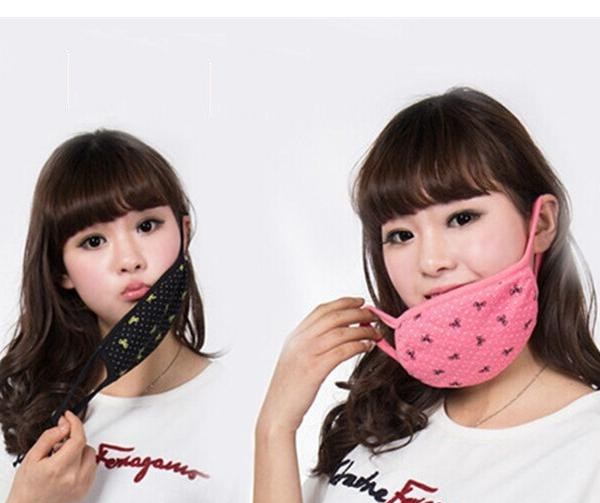face_mask: (379, 162, 537, 389), (66, 183, 183, 390)
